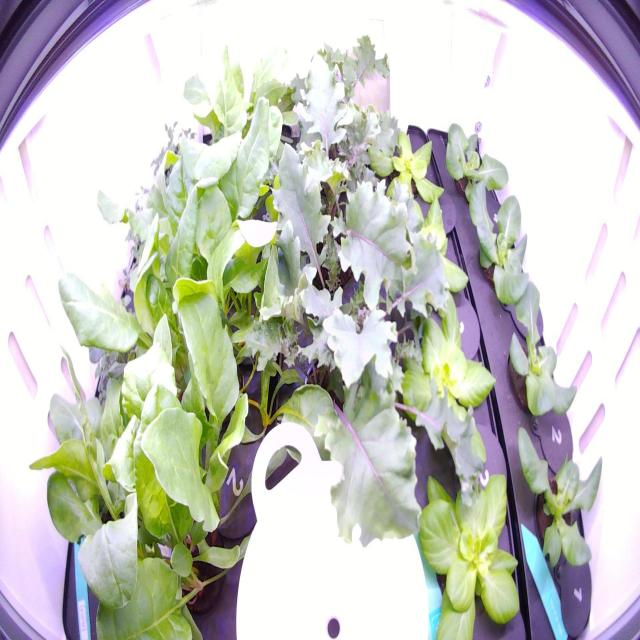young: (406, 445, 526, 638), (392, 275, 502, 469), (507, 407, 608, 601), (496, 275, 584, 433), (388, 185, 472, 314), (464, 179, 540, 313), (371, 116, 449, 218), (438, 118, 515, 218)
